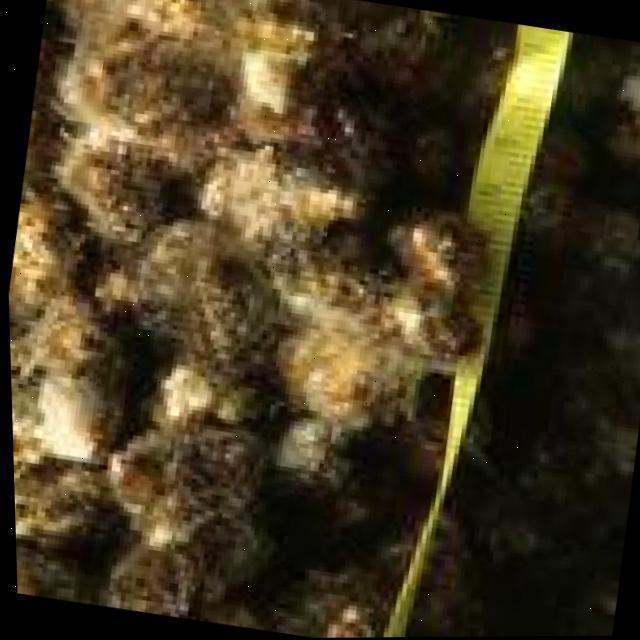Dead Coral: (0, 0, 504, 632)
